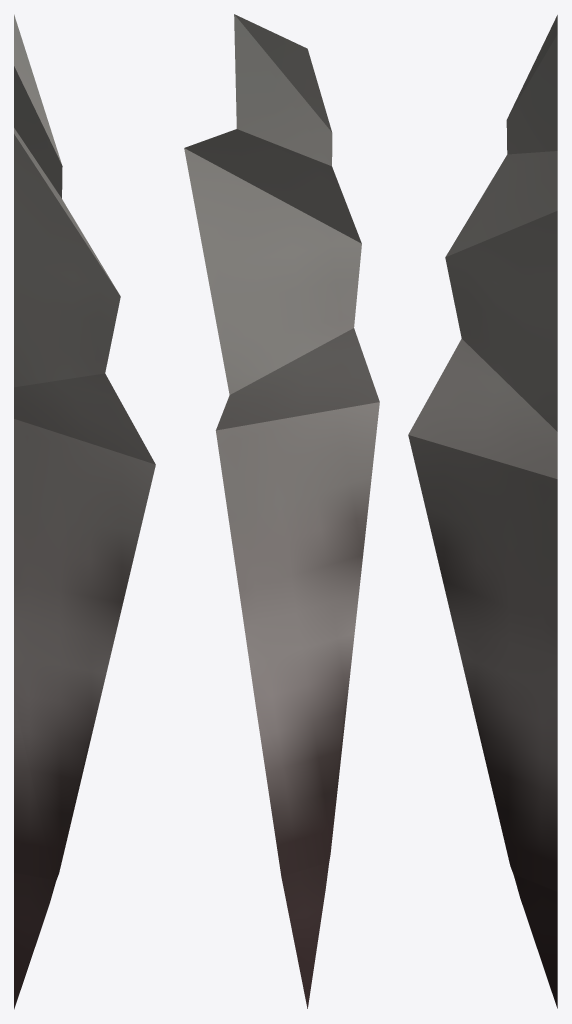
3 views of the same model, side by side, from view 1: azimuth 90°, elevation 25°; view 2: azimuth 150°, elevation 25°; view 3: azimuth 270°, elevation 25° (orthographic). The views are drawn at different scales.
Bounding box in the file's own units: 0.0119 × 0.0901 × 0.0121.
1 material, 1 textured.
